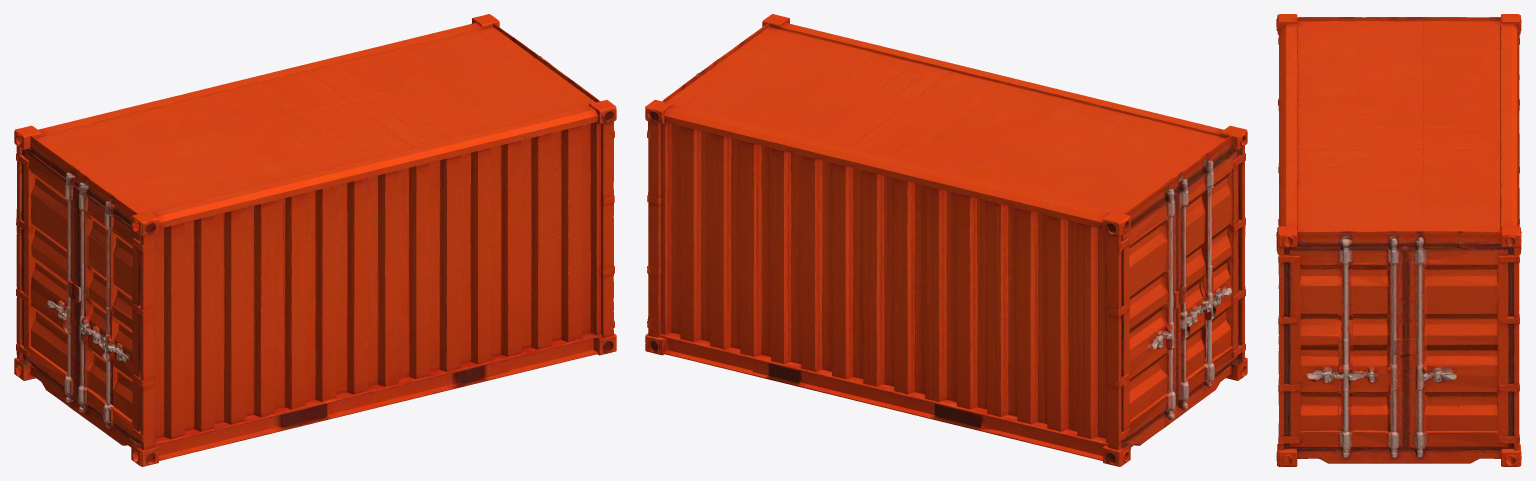
3 views of the same model, side by side, from view 1: azimuth 30°, elevation 25°; view 2: azimuth 150°, elevation 25°; view 3: azimuth 270°, elevation 25° (orthographic). The views are drawn at different scales.
Visible parts, largest first — view 1: tripo_node_d8946112-cf09-4b4a-8772-bc7927513795; view 2: tripo_node_d8946112-cf09-4b4a-8772-bc7927513795; view 3: tripo_node_d8946112-cf09-4b4a-8772-bc7927513795.
Part boxes in pixels (bbox=[...]): tripo_node_d8946112-cf09-4b4a-8772-bc7927513795: bbox=[14, 14, 616, 466]; tripo_node_d8946112-cf09-4b4a-8772-bc7927513795: bbox=[645, 14, 1247, 466]; tripo_node_d8946112-cf09-4b4a-8772-bc7927513795: bbox=[1276, 14, 1521, 466].
Size of the model in its own units: 1 by 0.4909 by 0.4668.
1 material, 1 textured.
